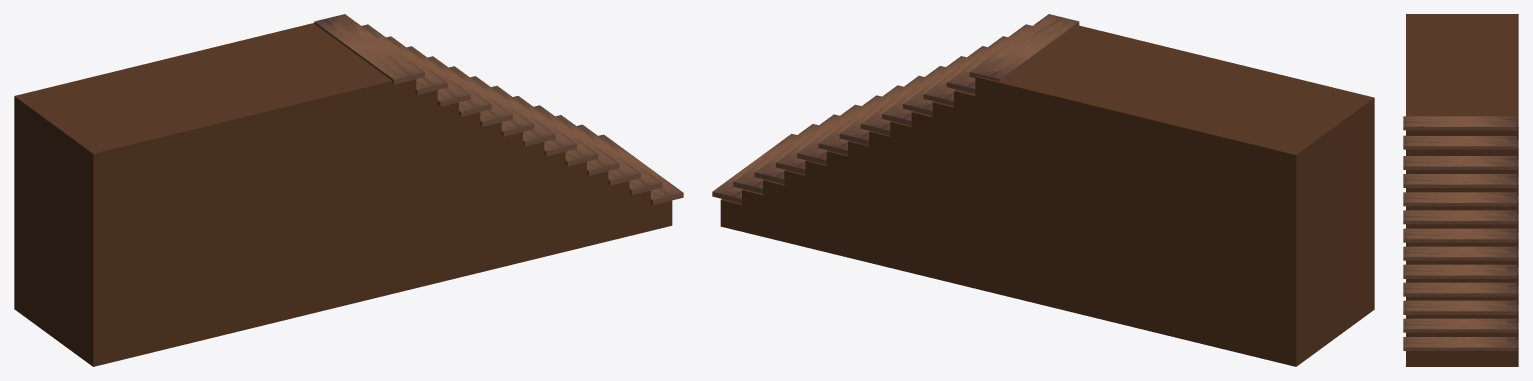
File: STAIRS.fbx
3 renders of one model, left to right at view 1: azimuth 30°, elevation 25°; view 2: azimuth 150°, elevation 25°; view 3: azimuth 270°, elevation 25°, orthographic. The views are drawn at different scales.
Visible parts, largest first — view 1: Stairs_Base, Plank.001; view 2: Stairs_Base, Plank.001; view 3: Plank.001, Stairs_Base.
Part boxes in pixels (left/top/right/bottom): Stairs_Base: left=14, top=23, right=672, bottom=366; Plank.001: left=314, top=14, right=683, bottom=204; Stairs_Base: left=720, top=25, right=1374, bottom=366; Plank.001: left=712, top=14, right=1079, bottom=203; Plank.001: left=1403, top=116, right=1516, bottom=350; Stairs_Base: left=1406, top=14, right=1518, bottom=366.
Size of the model in its own units: 966 by 338 by 230.
Materials: 2 (1 with a texture image).
